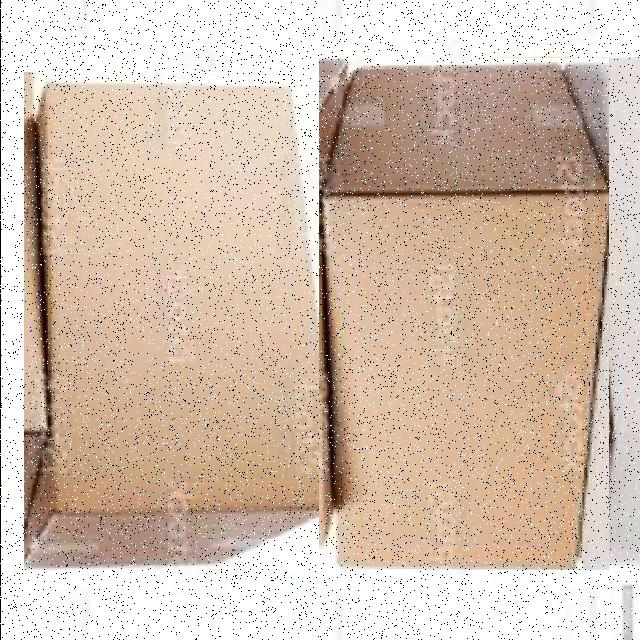normal: (23, 72, 345, 571), (318, 58, 608, 570)
